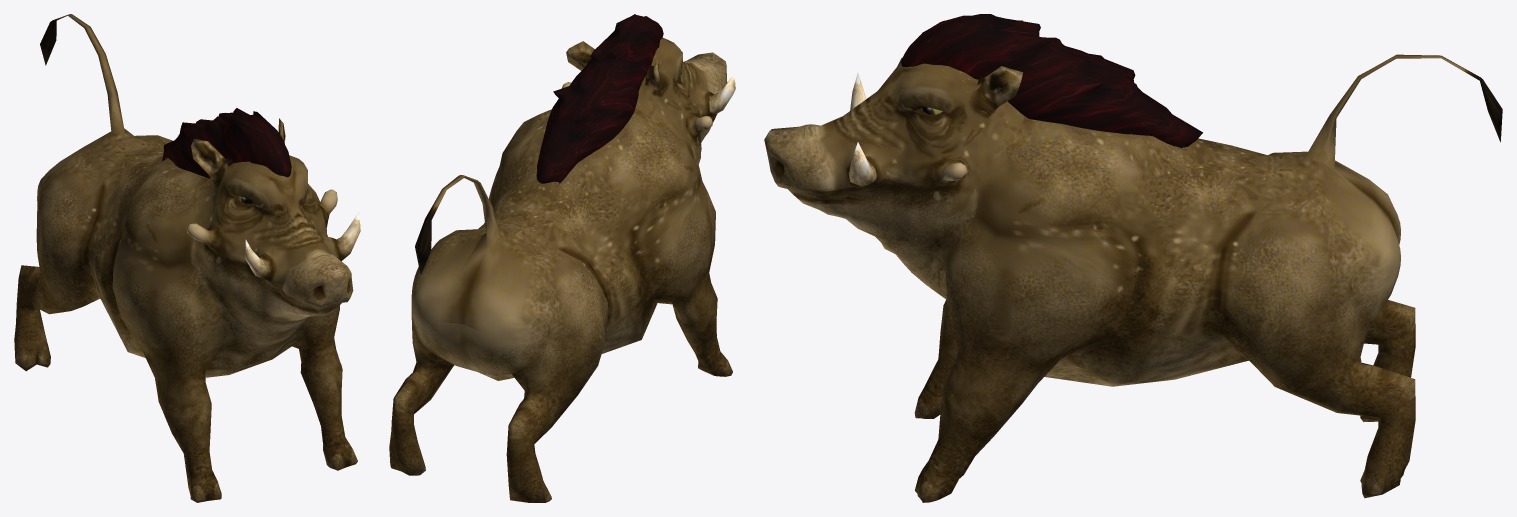
File: image_warthog.dae
The picture shows the model from 3 angles, left to right: view 1: azimuth 30°, elevation 25°; view 2: azimuth 150°, elevation 25°; view 3: azimuth 270°, elevation 25°; orthographic projection. The views are drawn at different scales.
Parts seen in each view (by area): view 1: default, default02; view 2: default, default02; view 3: default, default02.
Part boxes in pixels (<box>): default: <box>14,14,360,502</box>; default02: <box>162,108,291,178</box>; default: <box>389,38,735,502</box>; default02: <box>536,14,663,183</box>; default: <box>764,20,1502,502</box>; default02: <box>901,14,1202,147</box>.
Size of the model in its own units: 127 by 218 by 331.
2 materials, 2 textured.
